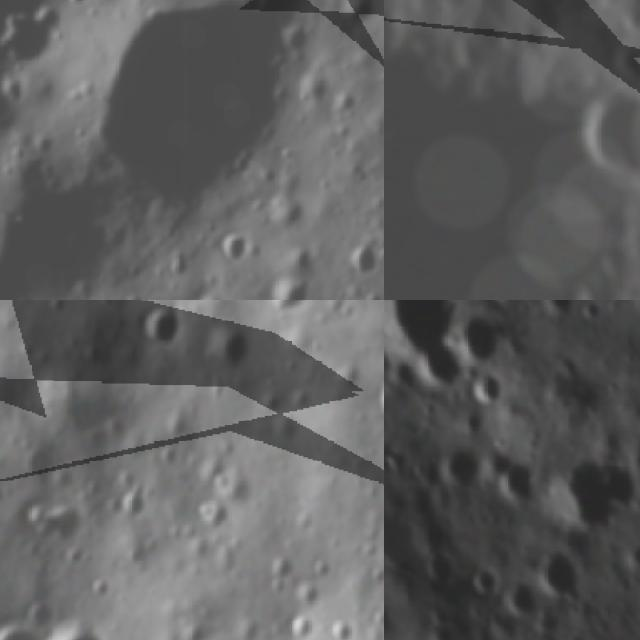crater: (88, 0, 305, 203), (548, 69, 640, 196), (546, 451, 640, 533), (384, 300, 459, 358), (0, 5, 60, 69), (492, 445, 548, 511), (432, 437, 487, 501), (452, 307, 505, 364), (24, 498, 84, 548), (413, 341, 470, 393), (530, 541, 581, 598), (206, 320, 250, 380), (384, 518, 423, 584), (141, 300, 183, 354), (16, 448, 59, 496), (345, 237, 382, 285), (262, 560, 302, 602), (466, 367, 506, 409), (384, 353, 424, 395), (23, 596, 62, 639), (44, 617, 110, 640), (420, 550, 456, 591), (499, 577, 536, 616), (464, 565, 502, 602), (269, 273, 315, 300), (290, 584, 321, 623), (220, 232, 254, 267), (260, 300, 309, 322), (533, 300, 578, 321), (287, 612, 318, 640), (576, 300, 607, 328), (286, 249, 318, 273), (327, 616, 353, 640), (61, 0, 89, 11)
